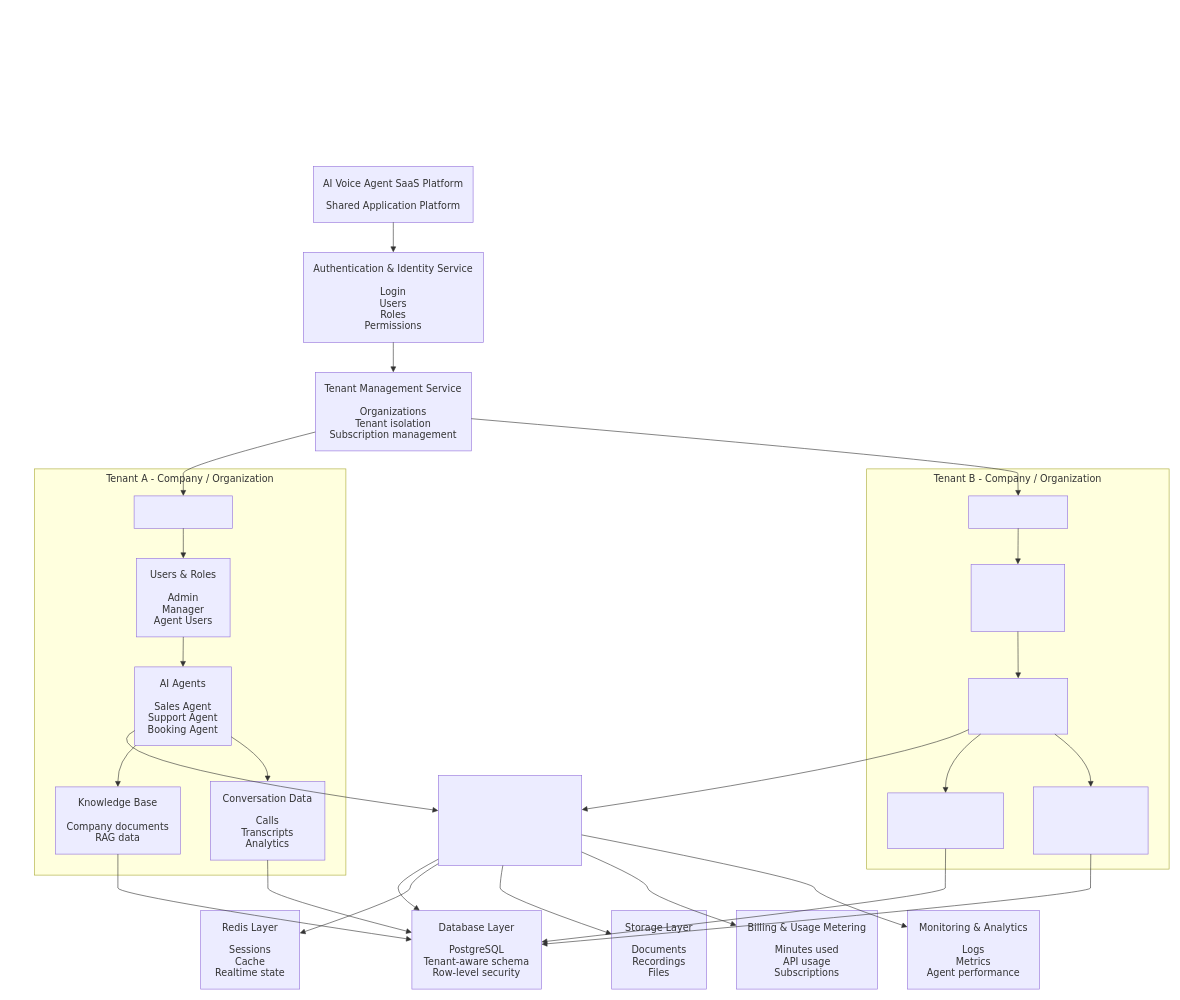
The diagram is 1180 pixels wide and 1000 high, and some of its shapes have lost their labels. Here are the shapes that lost their labels. From the top down, the box of each, then its label:
(134, 495, 232, 528): Organization A
(968, 495, 1068, 528): Organization B
(970, 564, 1065, 632): Users & Roles Admin Managers
(968, 678, 1068, 734): AI Agents Custom Agents
(438, 775, 582, 866): Shared Platform Services Agent Runtime LiveKit Twilio AI Services
(887, 792, 1004, 849): Knowledge Base Private documents
(1033, 786, 1148, 854): Conversation Data Calls Logs
